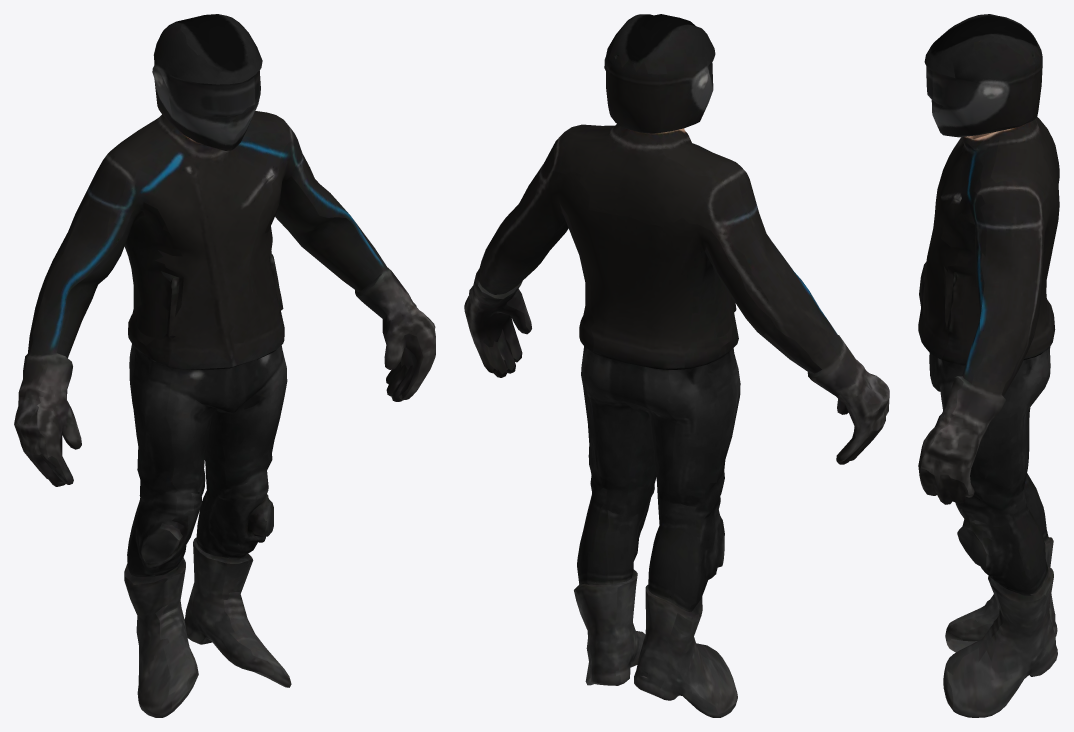
Rendered from biker.glb.
3 views of the same model, side by side, from view 1: azimuth 30°, elevation 25°; view 2: azimuth 150°, elevation 25°; view 3: azimuth 270°, elevation 25° (orthographic). The views are drawn at different scales.
Parts seen in each view (by area): view 1: world; view 2: world; view 3: world.
Boxes of the visible parts, box(x1,y1,x2,y2) form: world: box(14, 14, 435, 717); world: box(464, 14, 889, 717); world: box(918, 14, 1059, 717).
Size of the model in its own units: 1.18 by 1.84 by 0.3564.
1 material, 1 textured.
